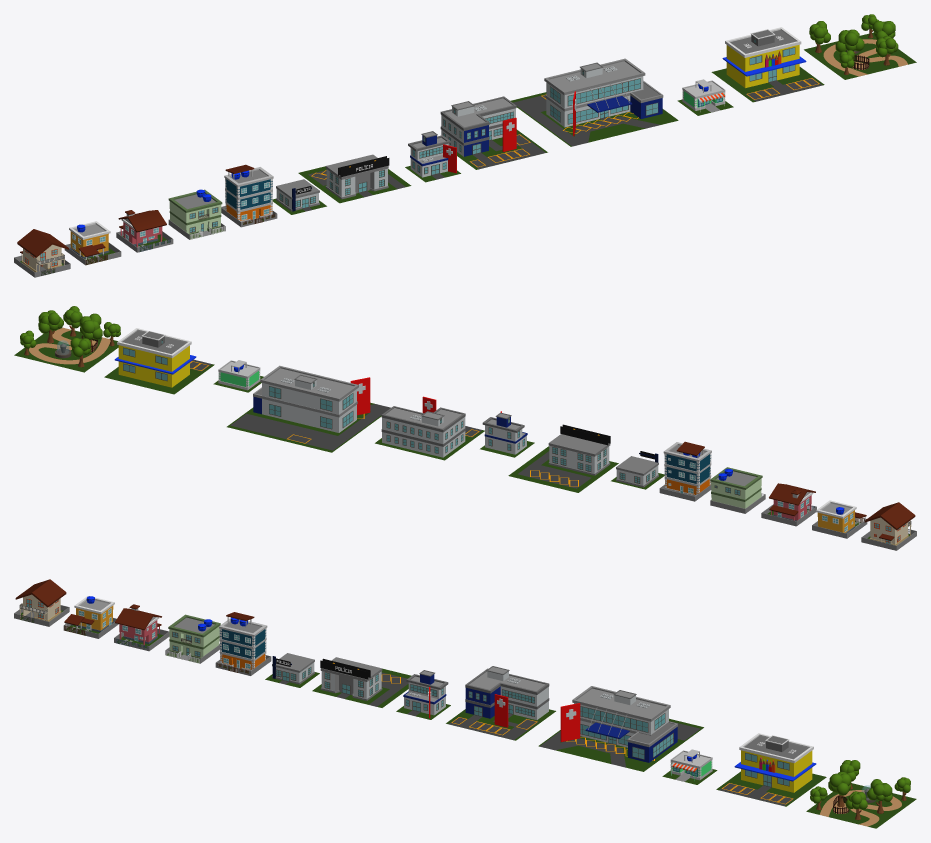
The model's file is Todos3.FBX.
The picture shows the model from 3 angles, top to bottom: view 1: azimuth 30°, elevation 25°; view 2: azimuth 150°, elevation 25°; view 3: azimuth 330°, elevation 25°; orthographic projection. The views are drawn at different scales.
Parts seen in each view (by area): view 1: hospital G, escola M, hospital M, predio 02, policia M, predio 01, hospital P, hospital G piso entrada, casa 01, hospital G grama, casa 03, parque M grama (+8 smaller); view 2: hospital G, hospital M, escola M, policia M, hospital G piso entrada, predio 02, predio 01, casa 01, hospital P, casa 03, parque M grama, casa 02 (+9 smaller); view 3: hospital G, hospital M, escola M, predio 02, policia M, predio 01, hospital P, casa 01, casa 03, hospital G grama, casa 02, parque M grama (+11 smaller).
Part boxes in pixels (bbox=[...]): hospital G: bbox=[544, 58, 663, 136]; escola M: bbox=[722, 27, 806, 88]; hospital M: bbox=[440, 96, 516, 156]; predio 02: bbox=[224, 164, 273, 223]; policia M: bbox=[325, 154, 389, 199]; predio 01: bbox=[168, 189, 222, 235]; hospital P: bbox=[408, 131, 456, 177]; hospital G piso entrada: bbox=[513, 95, 660, 146]; casa 01: bbox=[17, 229, 68, 272]; hospital G grama: bbox=[510, 92, 678, 146]; casa 03: bbox=[118, 210, 166, 247]; parque M grama: bbox=[804, 32, 916, 79]; hospital G: bbox=[253, 365, 370, 432]; hospital M: bbox=[381, 396, 465, 457]; escola M: bbox=[114, 328, 196, 387]; policia M: bbox=[548, 424, 610, 475]; hospital G piso entrada: bbox=[230, 404, 390, 450]; predio 02: bbox=[663, 441, 711, 496]; predio 01: bbox=[710, 467, 762, 508]; casa 01: bbox=[864, 502, 915, 545]; hospital P: bbox=[482, 411, 527, 454]; casa 03: bbox=[769, 483, 815, 521]; parque M grama: bbox=[14, 327, 118, 372]; casa 02: bbox=[816, 500, 866, 533]; hospital G: bbox=[560, 686, 677, 762]; hospital M: bbox=[465, 666, 549, 727]; escola M: bbox=[734, 733, 816, 792]; predio 02: bbox=[219, 612, 267, 670]; policia M: bbox=[320, 657, 382, 700]; predio 01: bbox=[168, 614, 220, 659]; hospital P: bbox=[403, 670, 448, 718]; casa 01: bbox=[15, 579, 66, 621]; casa 03: bbox=[115, 604, 161, 646]; hospital G grama: bbox=[538, 718, 703, 771]; casa 02: bbox=[64, 596, 114, 632]; parque M grama: bbox=[806, 783, 916, 828].
Bounding box in the file's own units: 965 × 49.57 × 118.
